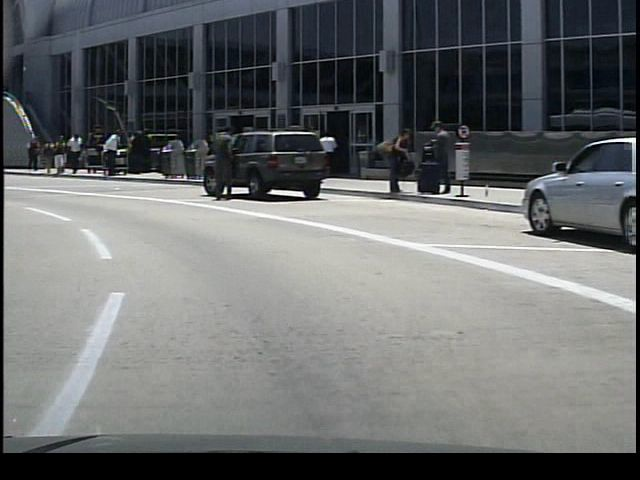person: (406, 115, 451, 195), (374, 121, 407, 198), (206, 115, 234, 205), (314, 124, 338, 185), (95, 125, 121, 179), (62, 129, 83, 178), (47, 132, 65, 180), (22, 136, 40, 175)
